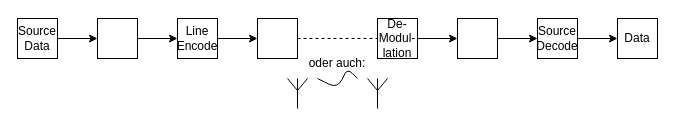
Some shapes in this 675 by 126 pixel diagram are drawn without their labels. The box of each missing label's shape, as (x1, y1, x2, y2) in pixels:
Line Decode: (456, 18, 498, 58)
Modul- ation: (256, 18, 298, 58)
Source Encode: (96, 18, 138, 58)
